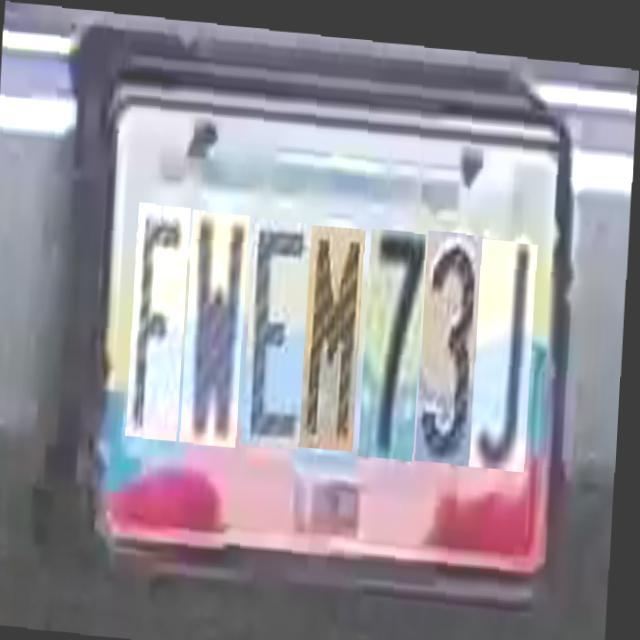3: (419, 211, 483, 445)
7: (362, 212, 426, 443)
E: (244, 207, 312, 437)
F: (129, 197, 190, 434)
J: (473, 217, 538, 448)
M: (302, 211, 365, 436)
W: (184, 202, 248, 438)
